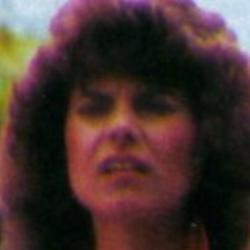face: (1, 2, 246, 229)
